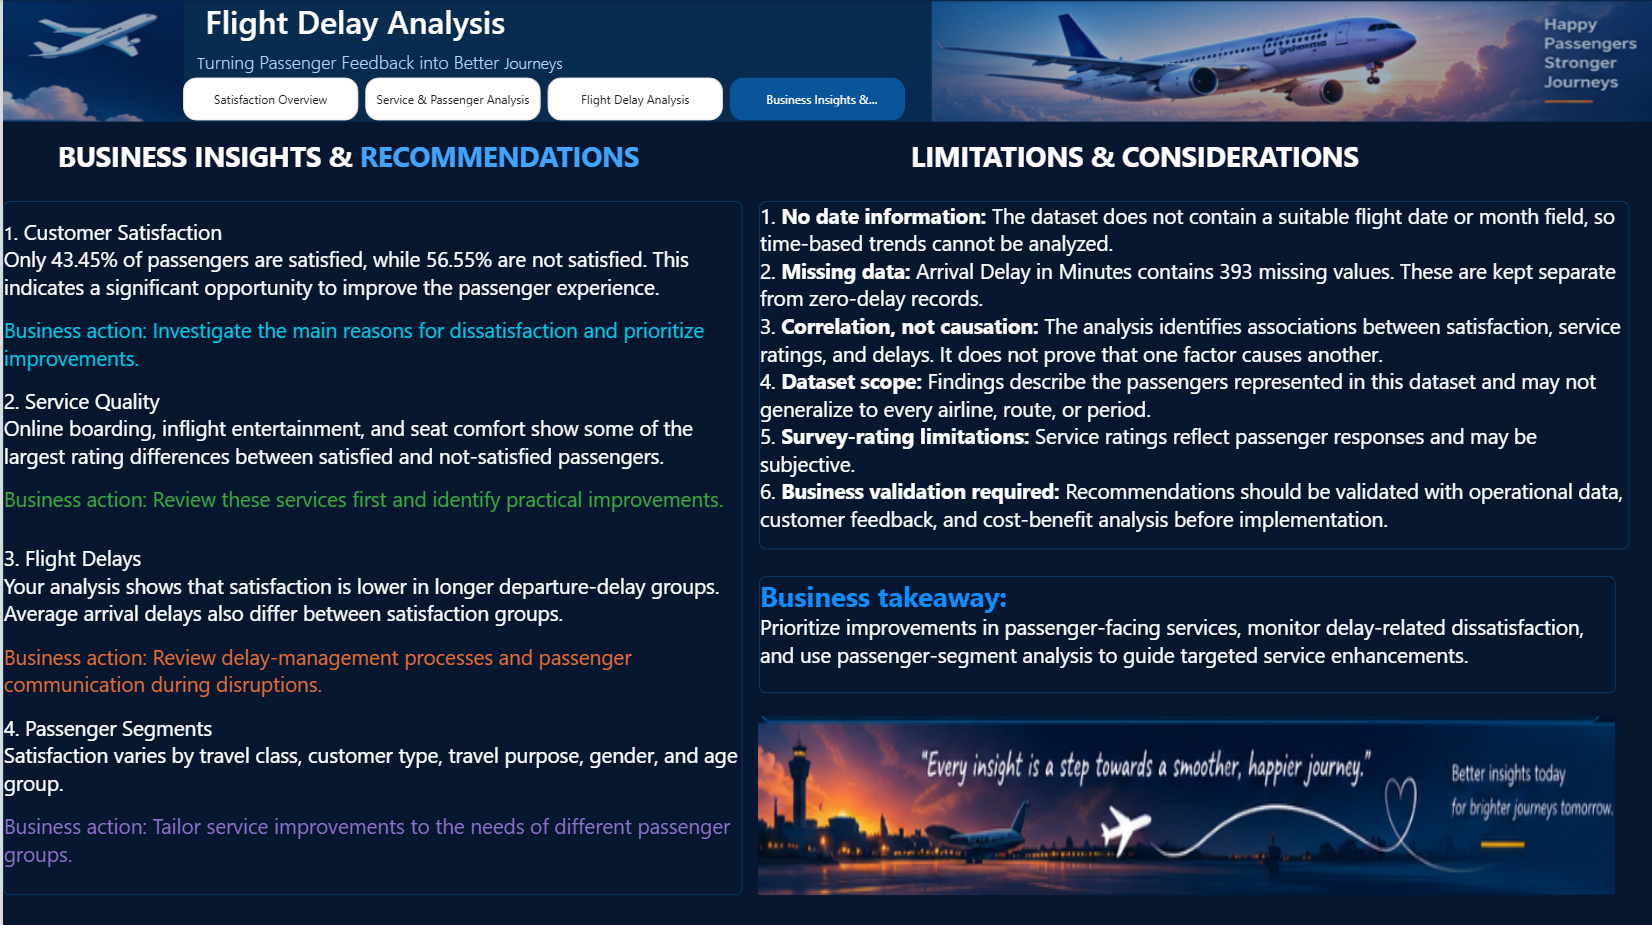

The page's visual inventory and layout, read from the dashboard file:
{"tool":"powerbi","page":{"name":"Business Insights & Recommendations","canvas":[1920,1080],"ordinal":3},"visuals":[{"type":"shape","box":[0,0,1920,141.7],"z":0},{"type":"textbox","box":[225,0,718.3,56.7],"z":1000},{"type":"textbox","box":[225,56.7,453.3,35],"z":2000},{"type":"image","box":[1080,1.7,840,140],"z":3000},{"type":"image","box":[0,1.7,210,140],"z":4000},{"type":"pageNavigator","box":[209.3,90.7,842.4,50.6],"z":5000},{"type":"textbox","box":[0,160.5,804.1,59.3],"z":6000},{"type":"textbox","box":[0,233.7,859.9,807.6],"z":7000},{"type":"textbox","box":[879.1,233.7,1011.6,404.7],"z":8000},{"type":"textbox","box":[879.1,669.8,995.9,136],"z":9000},{"type":"textbox","box":[914,160.5,804.1,59.3],"z":10000},{"type":"image","box":[878.3,833.3,996.7,208.3],"z":11000}]}

Visuals, with their boxes in screenshot pixels (x1, y1, x2, y2), scaled from the page's 1920x1080 canvas onto the 1652x925 screenshot:
shape: <region>0, 0, 1651, 121</region>
textbox: <region>194, 0, 812, 49</region>
textbox: <region>194, 49, 584, 79</region>
image: <region>929, 1, 1651, 121</region>
image: <region>0, 1, 181, 121</region>
pageNavigator: <region>180, 78, 905, 121</region>
textbox: <region>0, 137, 692, 188</region>
textbox: <region>0, 200, 740, 892</region>
textbox: <region>756, 200, 1627, 547</region>
textbox: <region>756, 574, 1613, 690</region>
textbox: <region>786, 137, 1478, 188</region>
image: <region>756, 714, 1613, 892</region>
